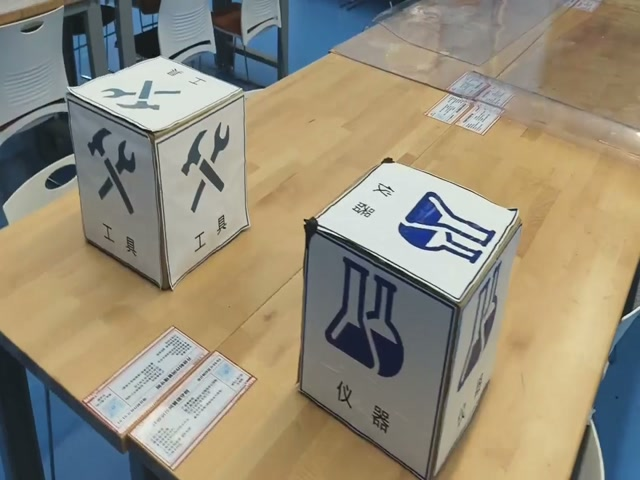Cube_ins: (305, 159, 520, 314)
Cube_tool: (67, 57, 243, 139)
